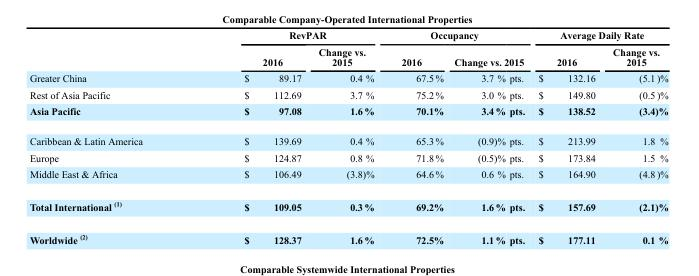table: (28, 29, 667, 245)
table column: (28, 29, 192, 245), (192, 29, 309, 245), (309, 29, 387, 245), (530, 29, 603, 245), (603, 29, 667, 245), (387, 29, 448, 245), (448, 29, 506, 245), (506, 29, 530, 245)
table column header: (28, 29, 667, 86)
table row: (28, 189, 667, 222), (28, 43, 667, 69), (28, 125, 667, 149), (28, 165, 667, 189), (28, 102, 667, 125), (28, 222, 667, 245), (28, 69, 667, 86), (28, 86, 667, 102), (28, 149, 667, 165), (28, 29, 667, 43)
table spanning cell: (28, 29, 192, 86), (192, 43, 309, 86), (309, 43, 387, 86), (530, 43, 603, 86), (603, 43, 667, 86), (192, 29, 387, 43), (387, 43, 448, 86), (448, 43, 530, 69), (387, 29, 530, 43), (530, 29, 667, 43)
